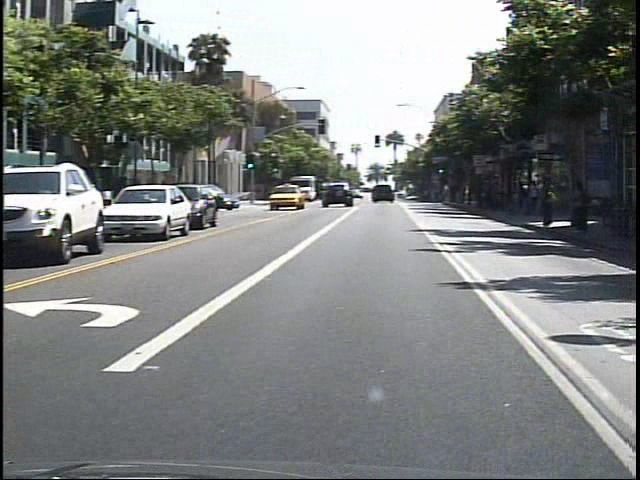person: (545, 166, 569, 232), (576, 177, 599, 238), (534, 179, 552, 218)
